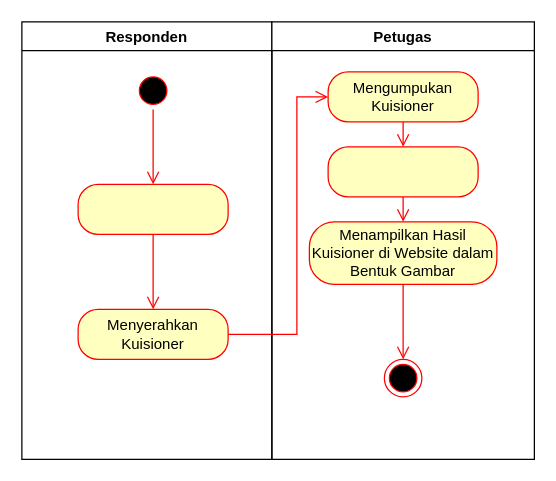
Some shapes in this 556 by 481 pixel diagram are drawn without their labels. Here are the shapes that lost their labels. From the top down, the centre of each, then its label:
At [402,171]: "Menginput Kuisioner ke Ms. Excel".
At [152,208]: "Mengisi Kuisioner".
